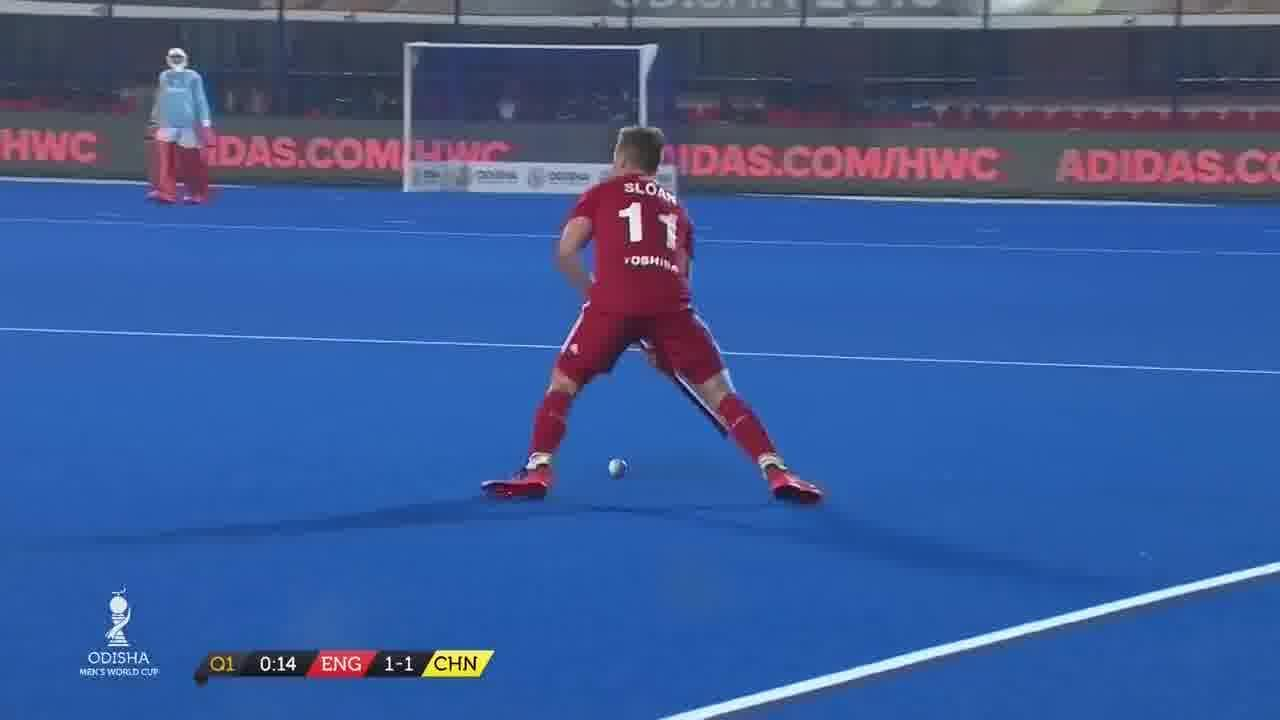ball: (604, 446, 630, 480)
